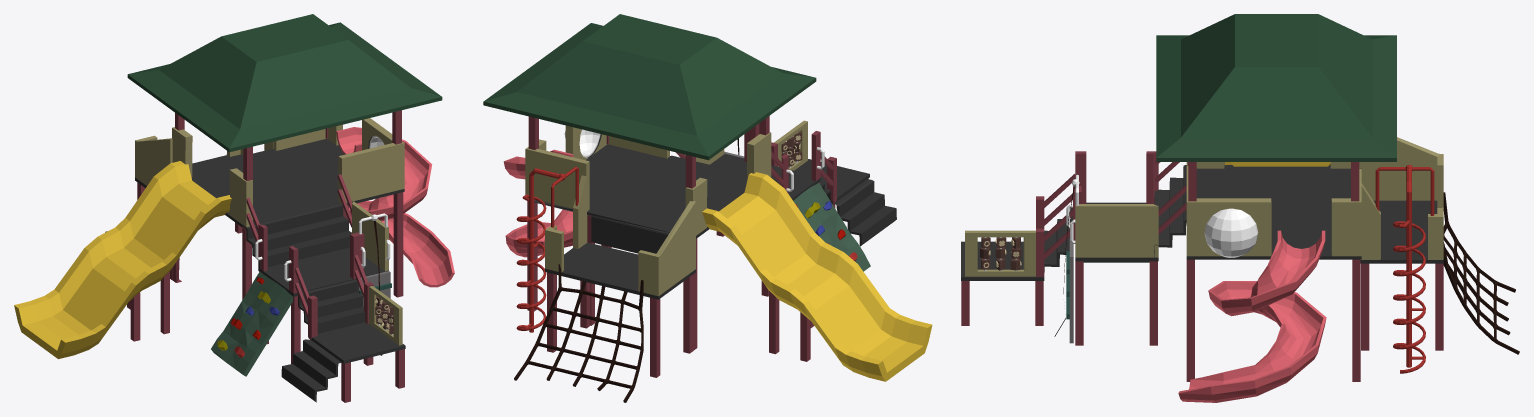
File: baked.glb
The picture shows the model from 3 angles, left to right: view 1: azimuth 30°, elevation 25°; view 2: azimuth 150°, elevation 25°; view 3: azimuth 270°, elevation 25°; orthographic projection. The views are drawn at different scales.
Visible parts, largest first — view 1: Cube.054, Cube.017, Cube.011, Cube.056, Cylinder, Cube.033, Cube.022, Cube, Cube.024, Cube.023, Cube.059, Cube.058 (+11 smaller); view 2: Cube.054, Cube.017, Cube.011, Cube.056, Cube.059, Plane, Cube.016, Cube.023, Cube.033, Cylinder.004, Cube.005, Cylinder (+14 smaller); view 3: Cube.054, Cylinder, Cube.011, Cube.059, Cube.056, Cube.058, Plane, Cube.016, Cylinder.004, Sphere, Cube.063, Cube (+12 smaller).
Boxes of the visible parts, x1=… form: Cube.054: x1=127, y1=14, x2=442, y2=152; Cube.017: x1=14, y1=161, x2=231, y2=359; Cube.011: x1=192, y1=137, x2=404, y2=269; Cube.056: x1=172, y1=118, x2=404, y2=227; Cylinder: x1=336, y1=127, x2=454, y2=287; Cube.033: x1=211, y1=271, x2=292, y2=376; Cube.022: x1=258, y1=247, x2=388, y2=296; Cube: x1=309, y1=322, x2=405, y2=363; Cube.024: x1=298, y1=279, x2=365, y2=333; Cube.023: x1=281, y1=339, x2=341, y2=402; Cube.059: x1=135, y1=135, x2=273, y2=185; Cube.058: x1=352, y1=201, x2=388, y2=271; Cube.054: x1=483, y1=14, x2=816, y2=160; Cube.017: x1=702, y1=172, x2=932, y2=381; Cube.011: x1=534, y1=134, x2=747, y2=238; Cube.056: x1=525, y1=125, x2=771, y2=235; Cube.059: x1=545, y1=175, x2=695, y2=296; Plane: x1=514, y1=264, x2=643, y2=402; Cube.016: x1=545, y1=242, x2=695, y2=299; Cube.023: x1=834, y1=179, x2=896, y2=246; Cube.033: x1=793, y1=183, x2=870, y2=271; Cylinder.004: x1=516, y1=168, x2=565, y2=332; Cube.005: x1=591, y1=215, x2=669, y2=253; Cylinder: x1=503, y1=149, x2=573, y2=257; Cube.054: x1=1156, y1=14, x2=1396, y2=161; Cylinder: x1=1178, y1=230, x2=1326, y2=402; Cube.011: x1=1154, y1=165, x2=1361, y2=259; Cube.059: x1=1361, y1=137, x2=1443, y2=259; Cube.056: x1=1186, y1=162, x2=1361, y2=256; Cube.058: x1=1075, y1=204, x2=1158, y2=257; Plane: x1=1443, y1=192, x2=1519, y2=354; Cube.016: x1=1360, y1=200, x2=1443, y2=263; Cylinder.004: x1=1393, y1=165, x2=1425, y2=373; Sphere: x1=1204, y1=208, x2=1258, y2=257; Cube.063: x1=965, y1=230, x2=1035, y2=276; Cube: x1=961, y1=241, x2=1044, y2=280.
Bounding box in the file's own units: 12.49 × 7.93 × 13.41.
